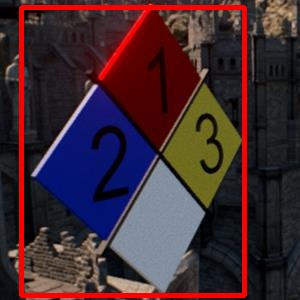nfpa: (21, 7, 244, 295)
